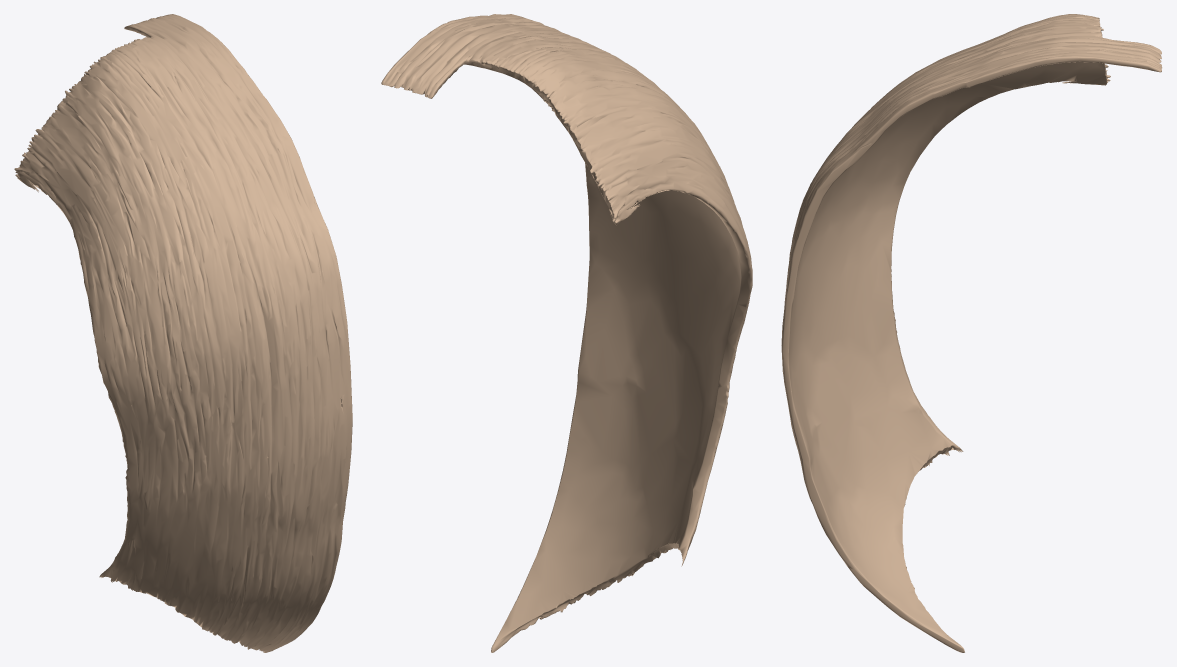
The picture shows the model from 3 angles, left to right: view 1: azimuth 30°, elevation 25°; view 2: azimuth 150°, elevation 25°; view 3: azimuth 270°, elevation 25°; orthographic projection. The views are drawn at different scales.
Parts seen in each view (by area): view 1: 右侧帽状腱膜; view 2: 右侧帽状腱膜; view 3: 右侧帽状腱膜.
Boxes of the visible parts, x1,y1,x2,y2 form: 右侧帽状腱膜: (14, 14, 352, 652); 右侧帽状腱膜: (381, 14, 752, 652); 右侧帽状腱膜: (781, 14, 1162, 652).
Bounding box in the file's own units: 0.0986 × 0.2777 × 0.1607.
